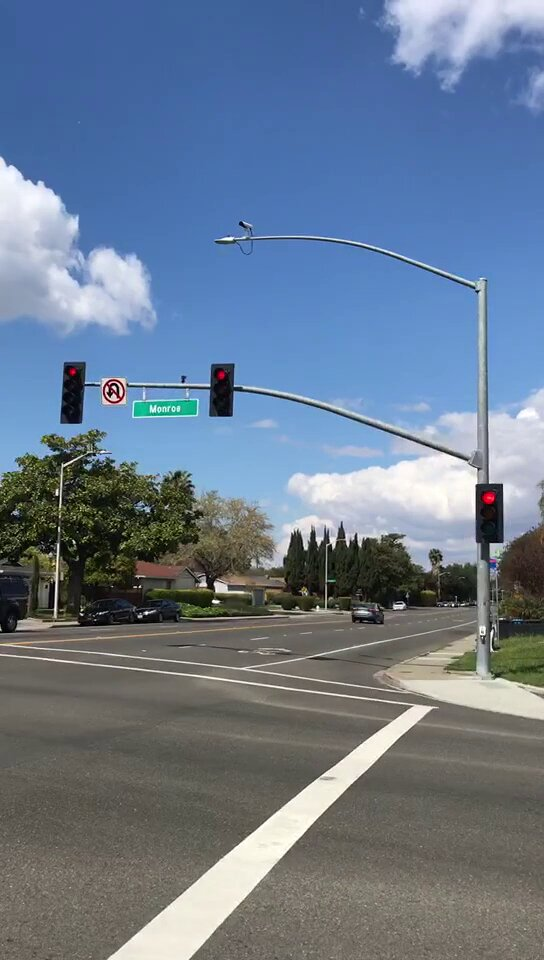red_light: (477, 484, 504, 542), (63, 363, 84, 419), (212, 365, 235, 416)
